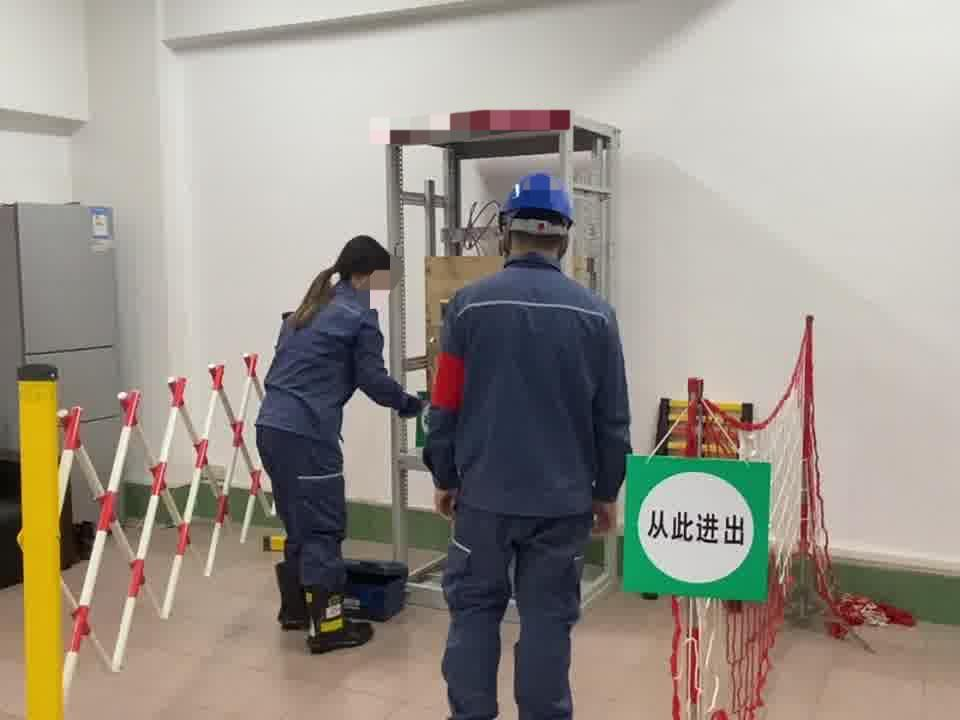halt: (500, 172, 581, 265)
noear: (352, 270, 379, 296)
unhalt: (338, 238, 395, 300)
